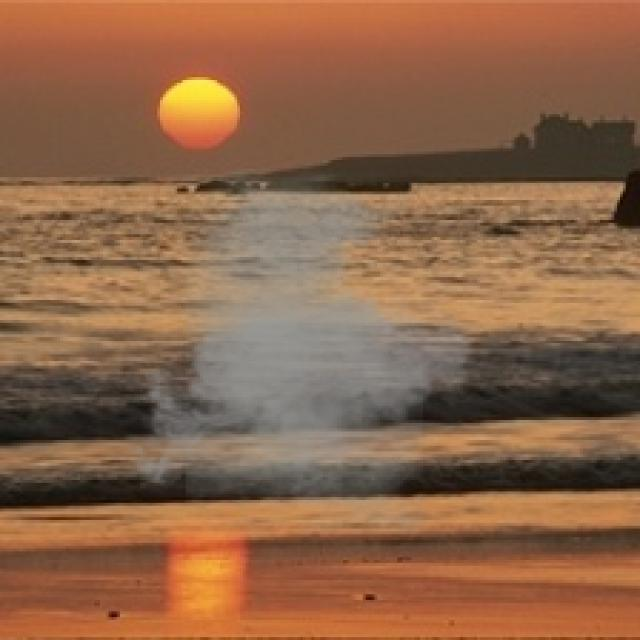smoke: (120, 169, 489, 534)
